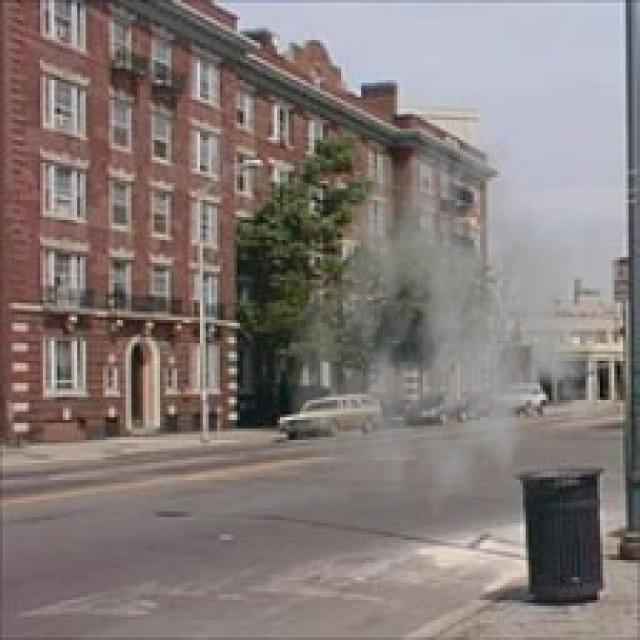smoke: (283, 114, 626, 540)
